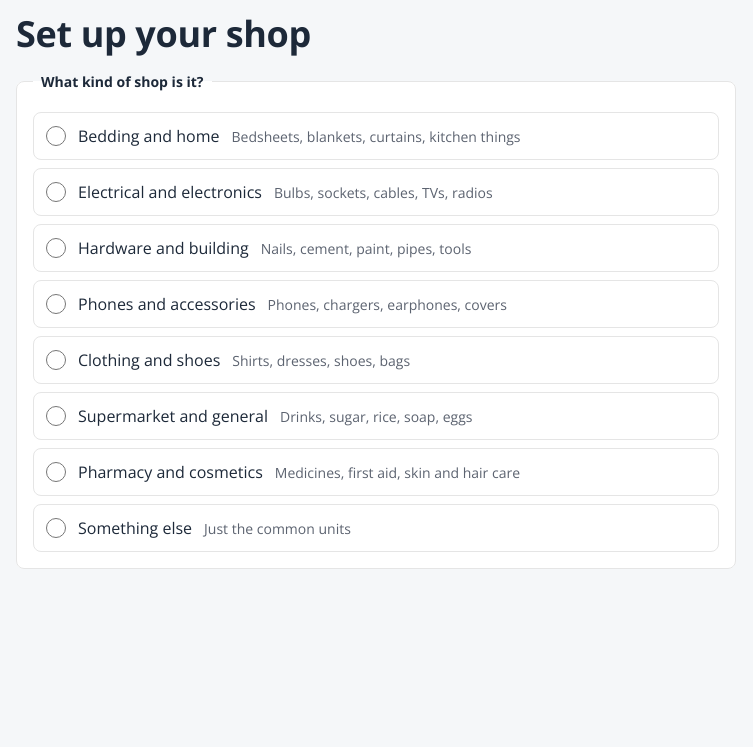
Scenario: Set up your shop (issue #625) › says there is nothing new when the shop has all of it, and offers no Add these
Click the radio button labelled "Something else Just the common units" at {"x": 56, "y": 528}, box [46,518,66,538]
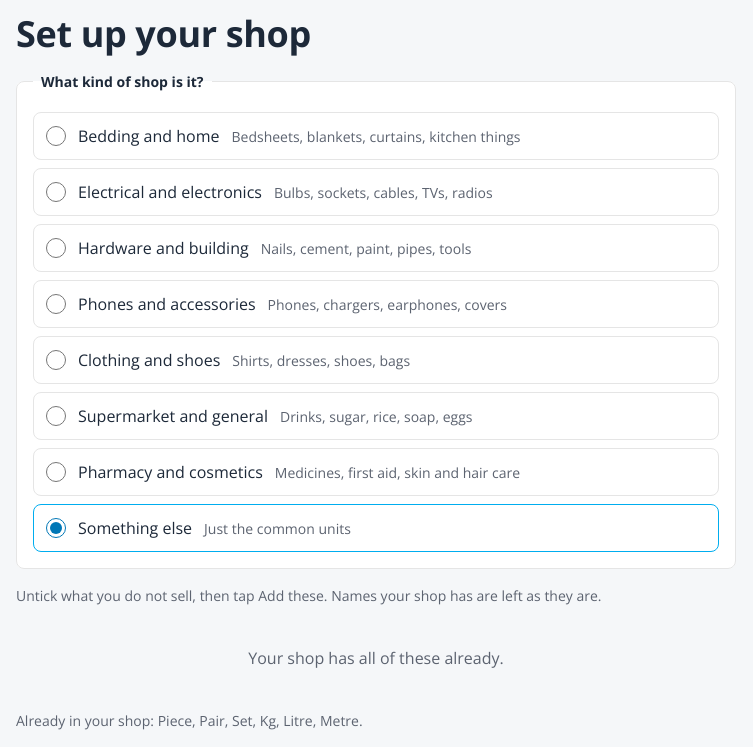
Expected: the text with test id "setup-nothing-new" reads "Your shop has all of these already.", [248,647,504,669]
